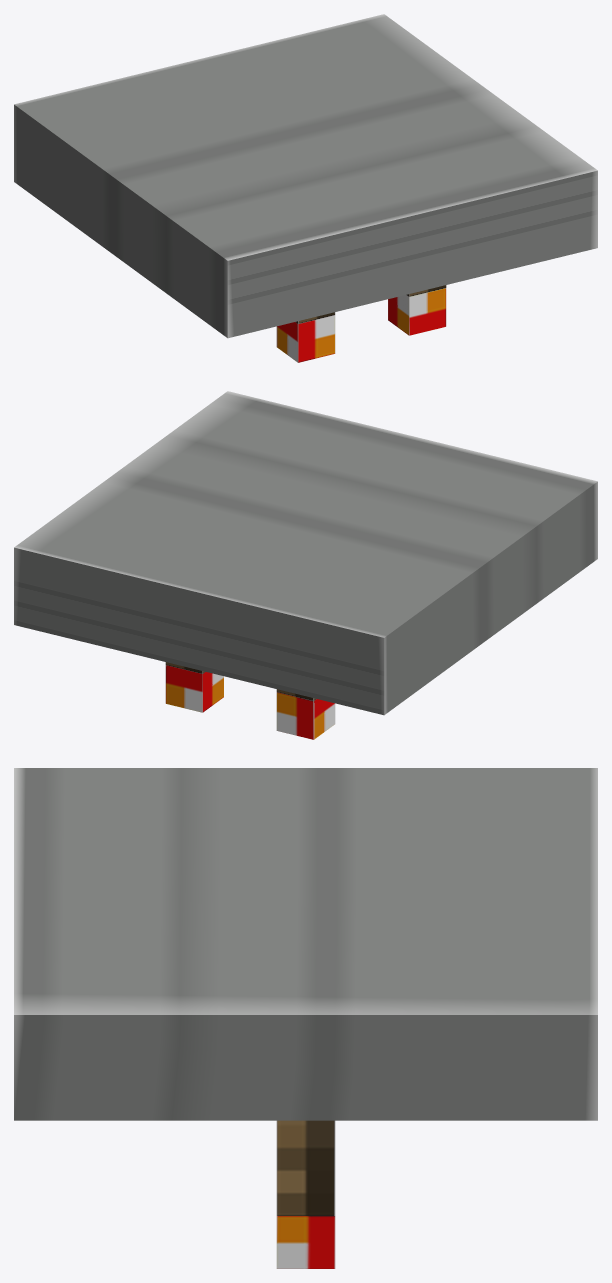
Rendered from repeateron-1.obj.
3 views of the same model, one above another, from view 1: azimuth 30°, elevation 25°; view 2: azimuth 150°, elevation 25°; view 3: azimuth 270°, elevation 25° (orthographic). The views are drawn at different scales.
Parts seen in each view (by area): view 1: Cube.001, Cube.004, Cube.005; view 2: Cube.001, Cube.004, Cube.005; view 3: Cube.001, Cube.003, Cube.005.
Part boxes in pixels (bbox=[...]): Cube.001: bbox=[14, 14, 597, 338]; Cube.004: bbox=[276, 315, 335, 362]; Cube.005: bbox=[388, 288, 446, 335]; Cube.001: bbox=[14, 391, 597, 715]; Cube.004: bbox=[276, 692, 335, 739]; Cube.005: bbox=[165, 665, 223, 712]; Cube.001: bbox=[14, 768, 597, 1120]; Cube.003: bbox=[276, 1120, 335, 1215]; Cube.005: bbox=[276, 1216, 335, 1268].
Bounding box in the file's own units: 1 × 0.55 × 1.
5 materials, 5 textured.
